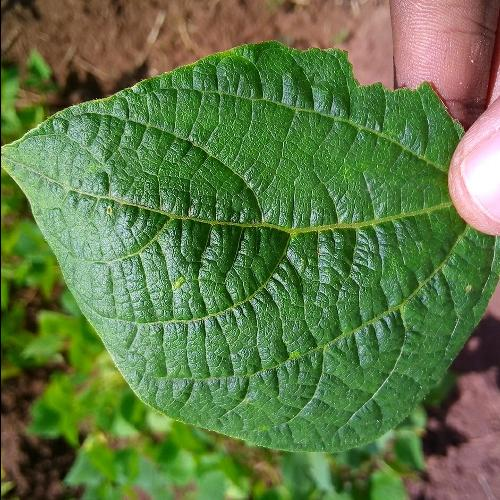sehat: (145, 115, 398, 412)
